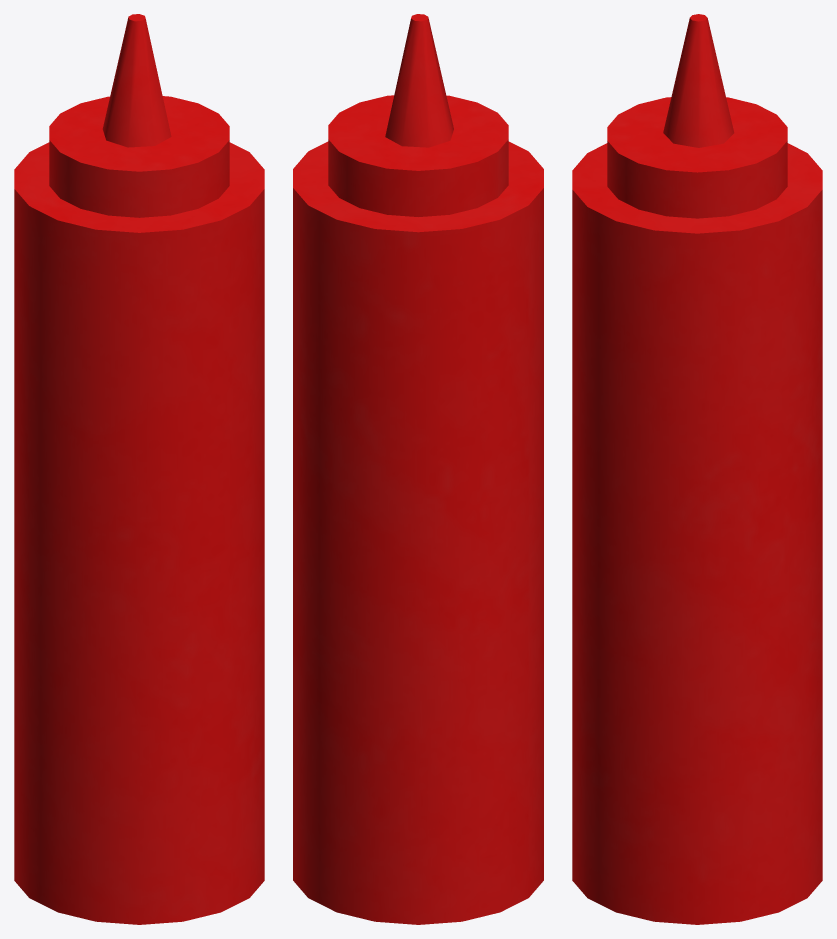
File: Ketchup.fbx
3 views of the same model, side by side, from view 1: azimuth 30°, elevation 25°; view 2: azimuth 150°, elevation 25°; view 3: azimuth 270°, elevation 25° (orthographic).
Parts seen in each view (by area): view 1: Ketchup; view 2: Ketchup; view 3: Ketchup.
Part boxes in pixels (x1,y1,x2,y2): Ketchup: (14, 14, 264, 924); Ketchup: (293, 14, 543, 924); Ketchup: (572, 14, 822, 924).
Size of the model in its own units: 5 by 18.5 by 4.92.
